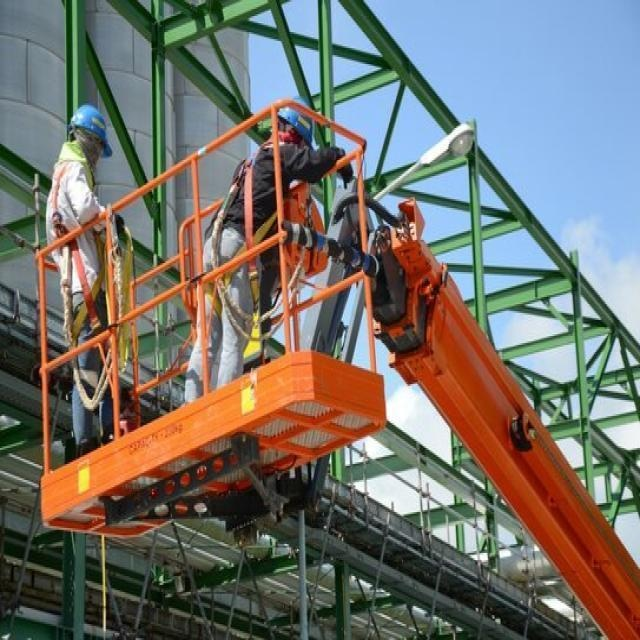Arnes_seguridad: (201, 140, 307, 314), (44, 154, 120, 343)
